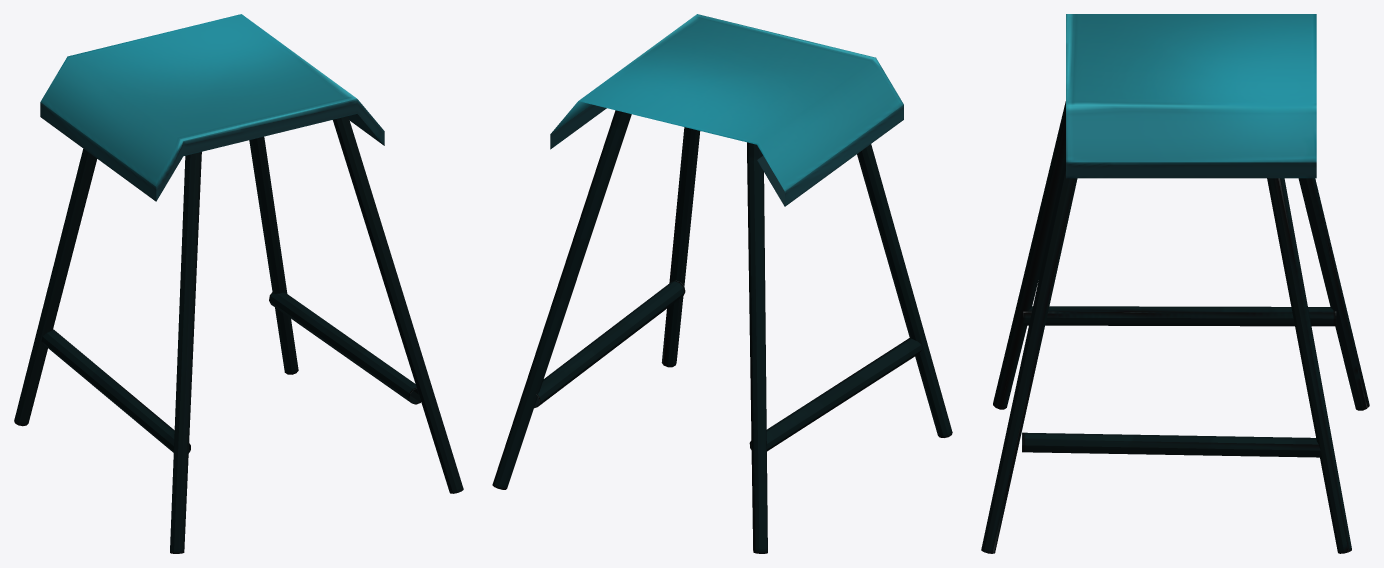
Rendered from Tx_props_chair_9.fbx.
The picture shows the model from 3 angles, left to right: view 1: azimuth 30°, elevation 25°; view 2: azimuth 150°, elevation 25°; view 3: azimuth 270°, elevation 25°; orthographic projection. The views are drawn at different scales.
Parts seen in each view (by area): view 1: Tx_props_chair_7; view 2: Tx_props_chair_7; view 3: Tx_props_chair_7.
Boxes of the visible parts, box(x1,y1,x2,y2) form: Tx_props_chair_7: box(14, 14, 463, 553); Tx_props_chair_7: box(492, 14, 952, 553); Tx_props_chair_7: box(981, 14, 1369, 553).
Bounding box in the file's own units: 1.9 × 2.42 × 2.06.
